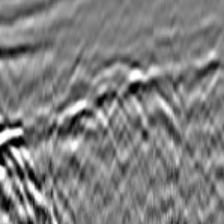cavities: (1, 112, 61, 224)
